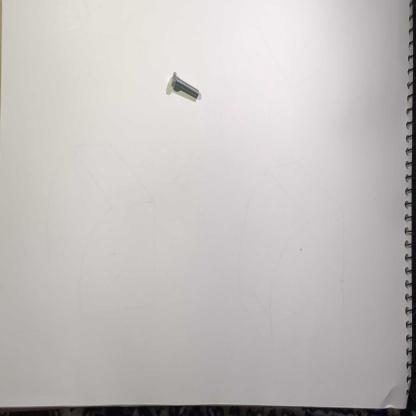Bolts: (168, 68, 204, 103)
